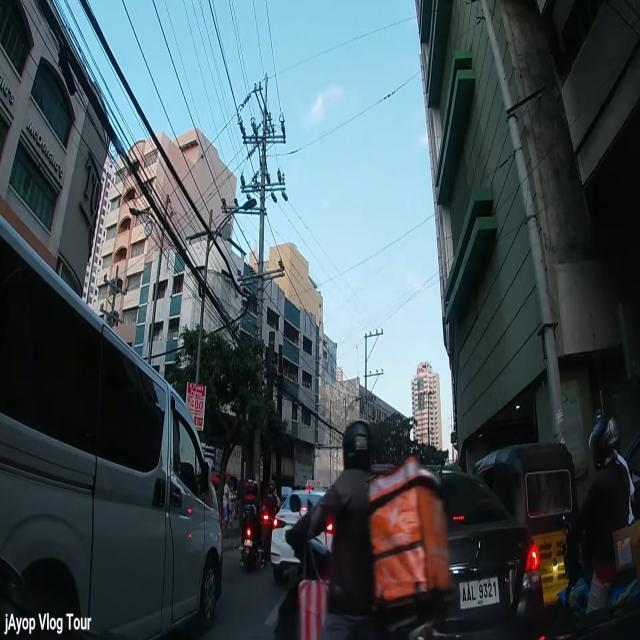car: (0, 214, 223, 640), (428, 472, 548, 640), (270, 478, 334, 581)
motorcycle: (270, 416, 452, 640), (556, 408, 640, 640), (240, 480, 266, 571), (264, 480, 282, 552)
tricycle: (474, 445, 580, 605)
